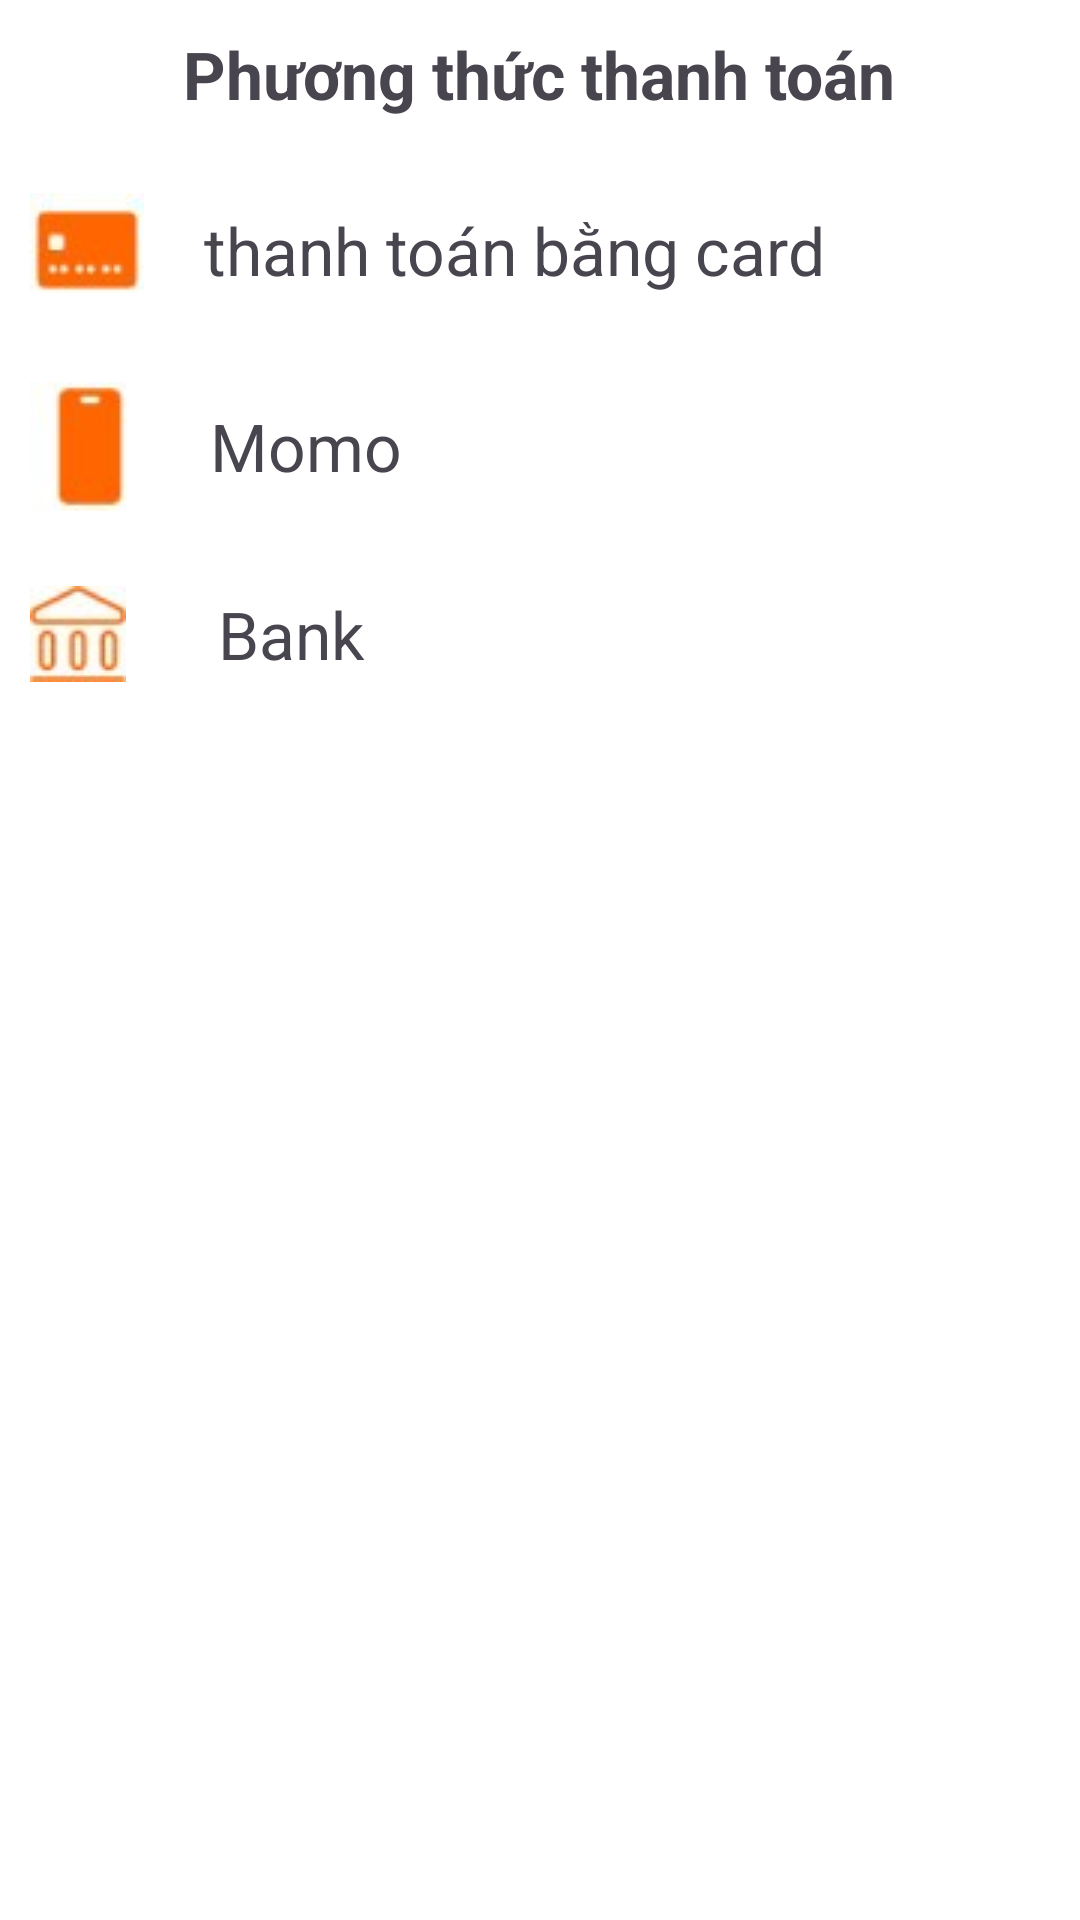

Where to tap for icons on this 1080 x 1920 app screen, as [x,y]:
credit card: [87,249]
